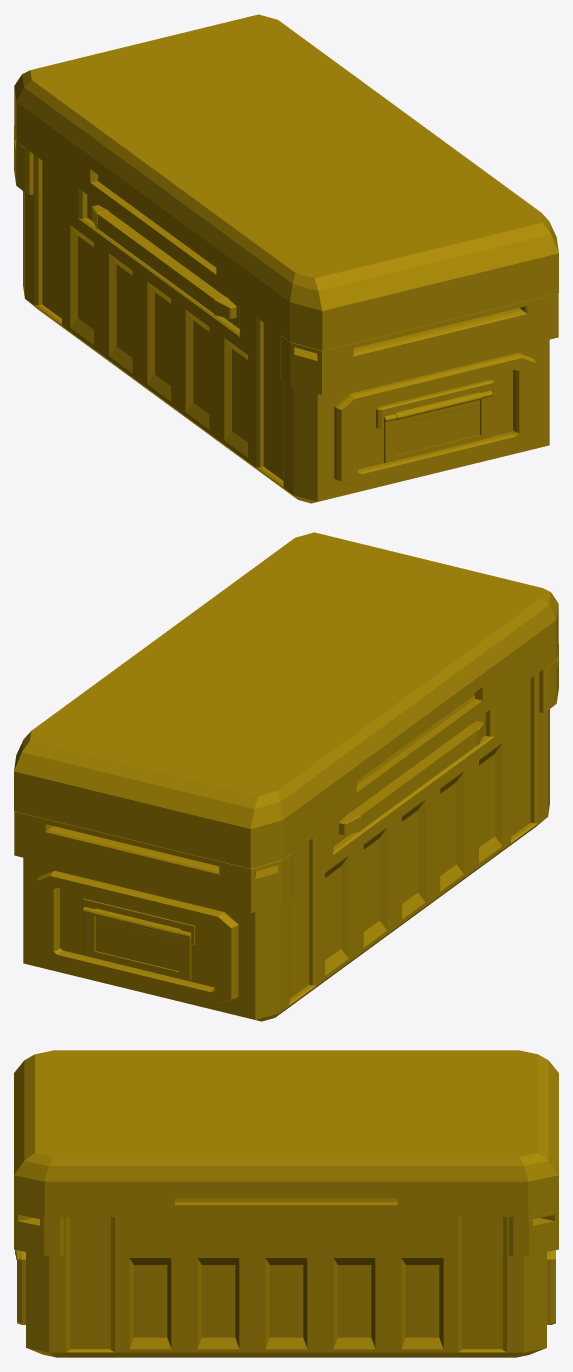
File: SM_Crate_Nuclear_Closed.fbx
3 renders of one model, top to bottom at view 1: azimuth 30°, elevation 25°; view 2: azimuth 150°, elevation 25°; view 3: azimuth 270°, elevation 25°, orthographic. The views are drawn at different scales.
Parts seen in each view (by area): view 1: SM_Top.003; view 2: SM_Top.003; view 3: SM_Top.003.
Boxes of the visible parts, <box> form: SM_Top.003: <box>14,14,558,503</box>; SM_Top.003: <box>14,532,558,1021</box>; SM_Top.003: <box>14,1050,558,1357</box>.
Size of the model in its own units: 1 by 0.8215 by 2.
